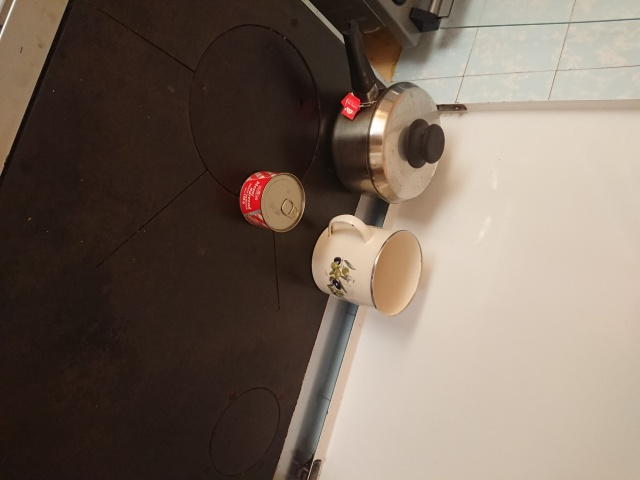Podravka Luncheon Meat 150g: (238, 170, 307, 235)
